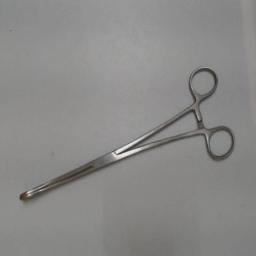Sponge Forceps: (14, 62, 238, 208)
